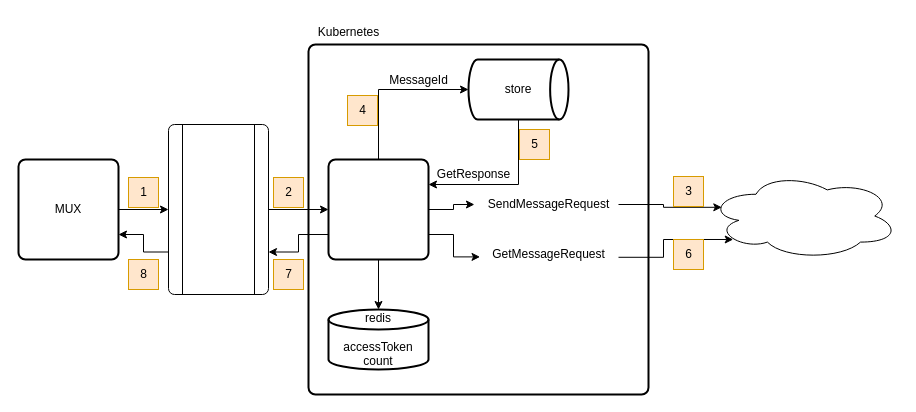
Image size: 916x412. Some labels were removed from this diagram. The shapes that lost their labels are listed below. From the top down, each one's centre as x and y in pixels, then its label:
At (218,209): "Active MQ".
At (378,209): "srv.fns.openapi".
At (803,216): "FNS".
